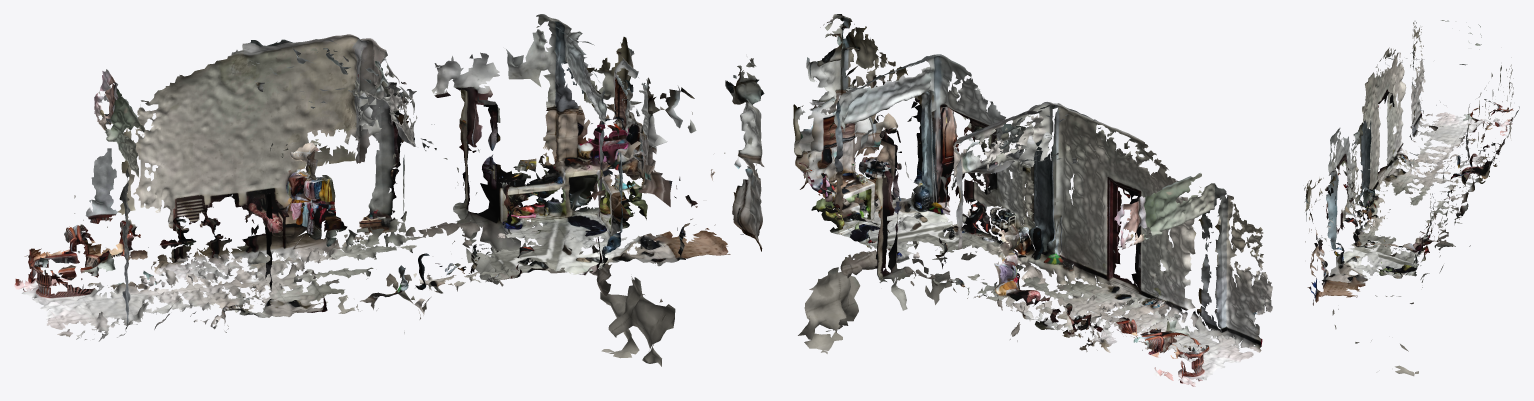
Rendered from 139768-Cobakosmanual-tex.glb.
3 views of the same model, side by side, from view 1: azimuth 30°, elevation 25°; view 2: azimuth 150°, elevation 25°; view 3: azimuth 270°, elevation 25° (orthographic). The views are drawn at different scales.
Visible parts, largest first — view 1: Node; view 2: Node; view 3: Node.
Part boxes in pixels (x1,y1,x2,y2): Node: (14,14,764,366); Node: (793,14,1272,386); Node: (1304,20,1519,376).
Size of the model in its own units: 11.08 by 5.8 by 5.08.
17 materials, 17 textured.
